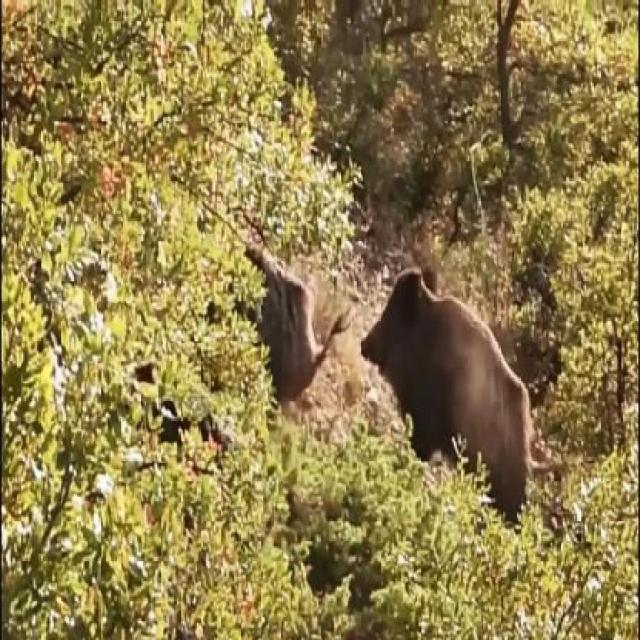pig: (356, 228, 532, 514), (242, 217, 338, 409)
